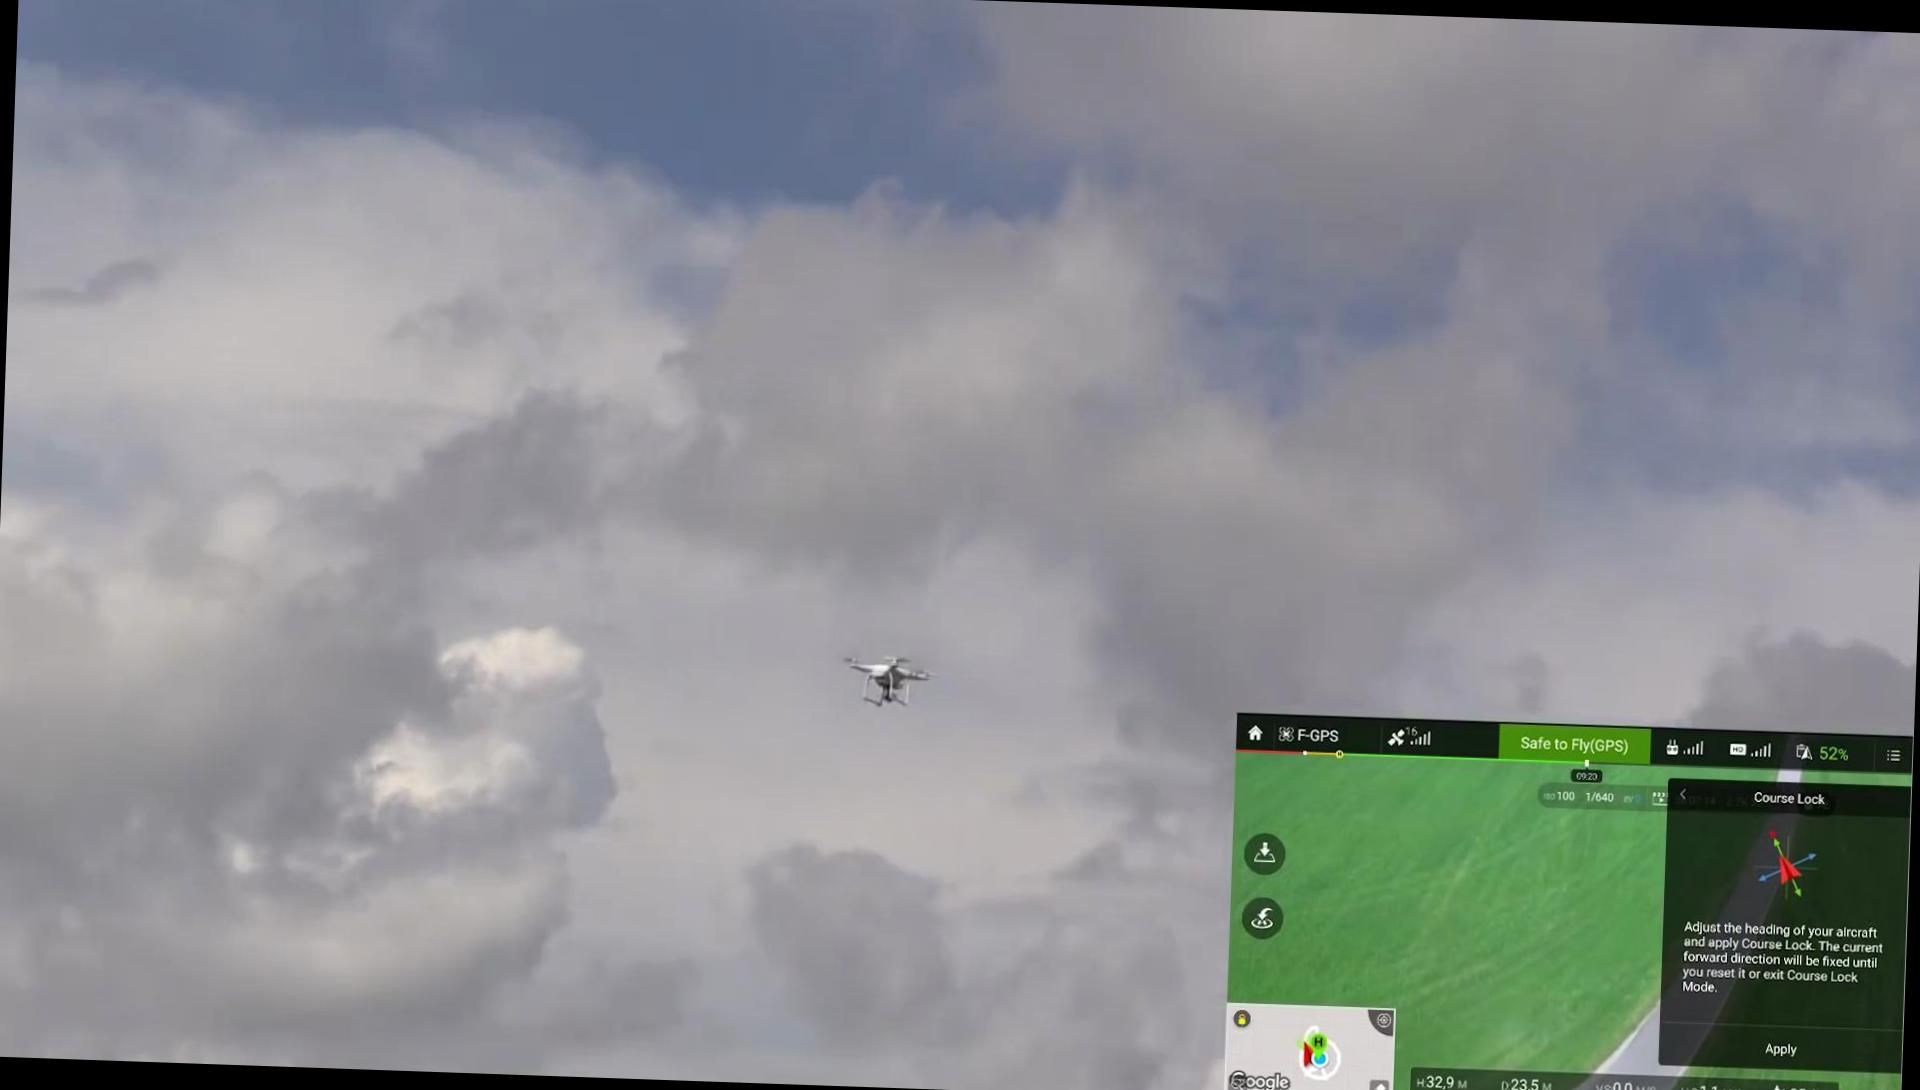drone: (842, 646, 932, 713)
